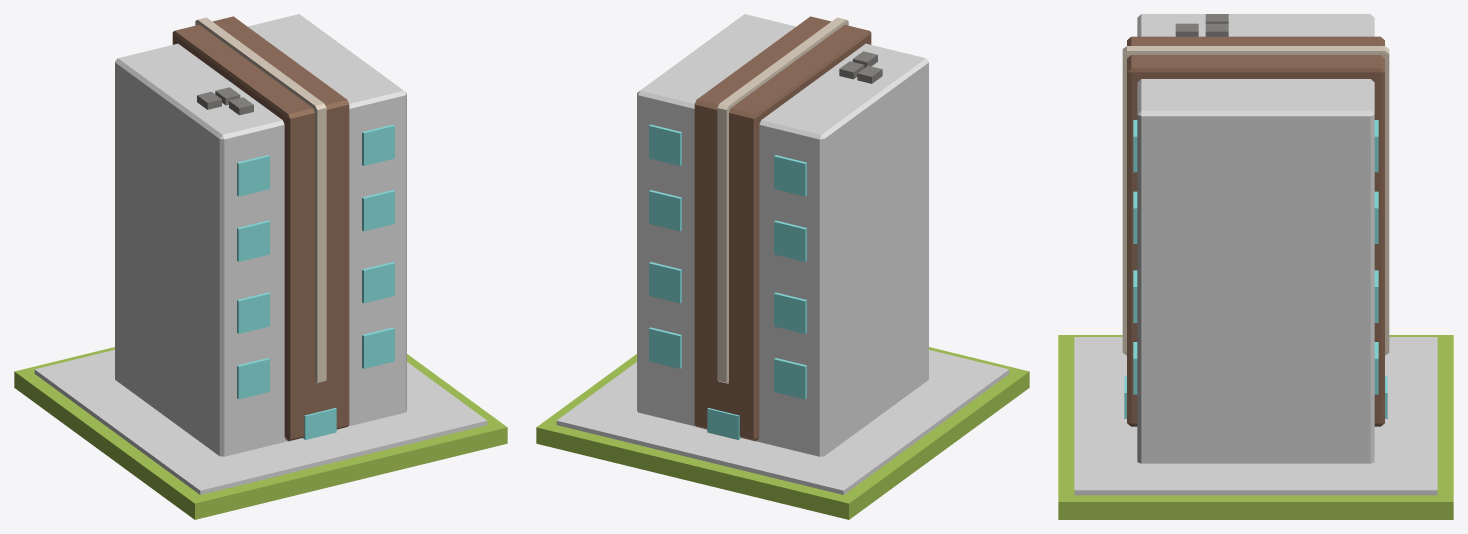
The model's file is office-1.glb.
3 views of the same model, side by side, from view 1: azimuth 30°, elevation 25°; view 2: azimuth 150°, elevation 25°; view 3: azimuth 270°, elevation 25° (orthographic). The views are drawn at different scales.
Parts seen in each view (by area): view 1: Building, Something, Ground_Foundation, Cube, Line_Detail_Thing, Window__3_, Window__5_, Window__2_, Window__4_, Window__6_, Window__7_, Window (+2 smaller); view 2: Building, Something, Ground_Foundation, Cube, Line_Detail_Thing, Window__3__1, Window__5__1, Window__2__1, Window__4__1, Window__6__1, Window_1, Window__7__1 (+2 smaller); view 3: Building, Ground_Foundation, Cube, Something, Line_Detail_Thing.
Part boxes in pixels (x1,y1,x2,y2): Building: (115,14,406,456); Something: (172,16,349,441); Ground_Foundation: (34,350,487,494); Cube: (14,347,507,519); Line_Detail_Thing: (195,17,326,383); Window__3_: (362,190,394,231); Window__5_: (362,262,394,303); Window__2_: (237,220,269,261); Window__4_: (237,292,269,333); Window__6_: (237,358,269,399); Window__7_: (362,327,394,368); Window: (237,155,269,196); Building: (637,14,928,456); Something: (694,16,871,441); Ground_Foundation: (556,350,1009,494); Cube: (536,347,1029,519); Line_Detail_Thing: (717,17,848,383); Window__3__1: (649,190,681,231); Window__5__1: (649,262,681,303); Window__2__1: (774,220,806,261); Window__4__1: (774,292,806,333); Window__6__1: (774,358,806,399); Window_1: (774,155,806,196); Window__7__1: (649,327,681,368); Building: (1137,14,1374,463); Ground_Foundation: (1074,337,1437,495); Cube: (1058,335,1453,519); Something: (1127,36,1384,426); Line_Detail_Thing: (1122,46,1389,355).
Bounding box in the file's own units: 1 × 1.08 × 1.
